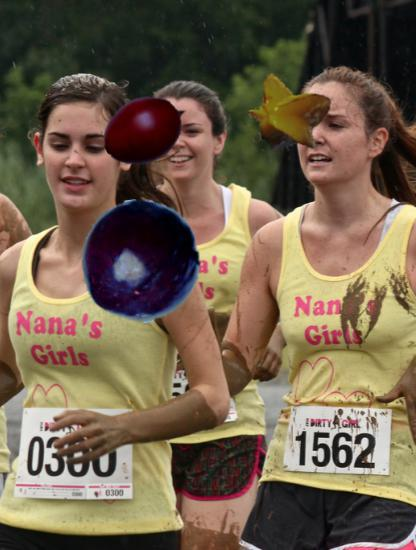Carambula: (243, 71, 332, 160)
Plum: (78, 199, 203, 324)
Tamarillo: (101, 84, 193, 176)
